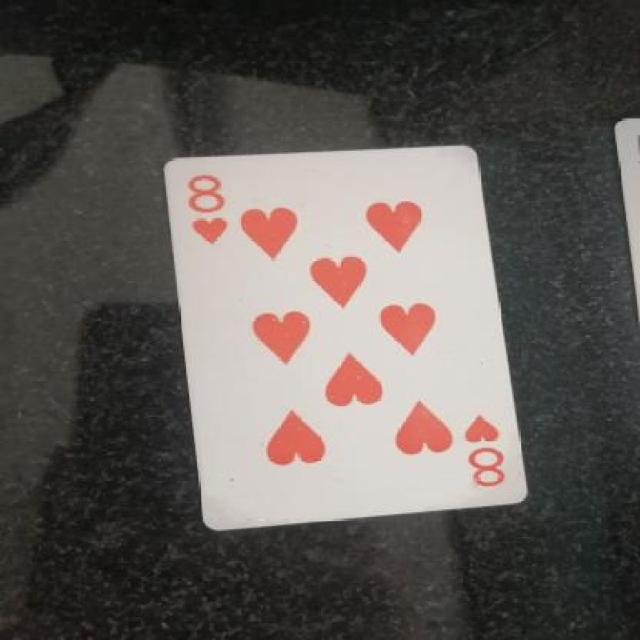8H: (453, 416, 515, 495), (182, 168, 238, 249)
